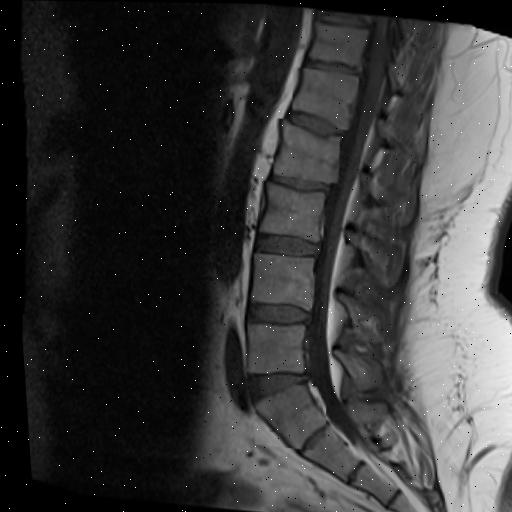L1: (291, 68, 358, 129)
L2: (271, 118, 338, 182)
L3: (257, 182, 322, 240)
L4: (249, 254, 310, 308)
L5: (243, 324, 299, 374)
S1: (250, 385, 320, 449)
